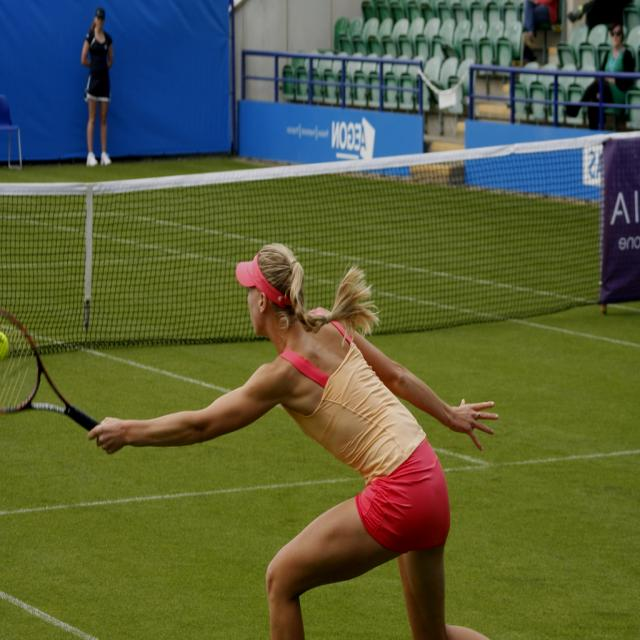Tennis Ball: (1, 332, 10, 362)
